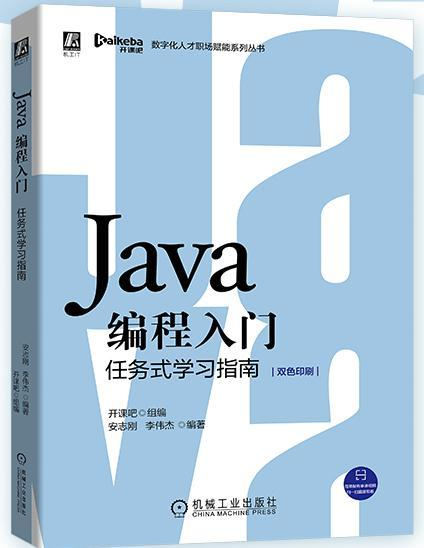book: (7, 2, 418, 542)
